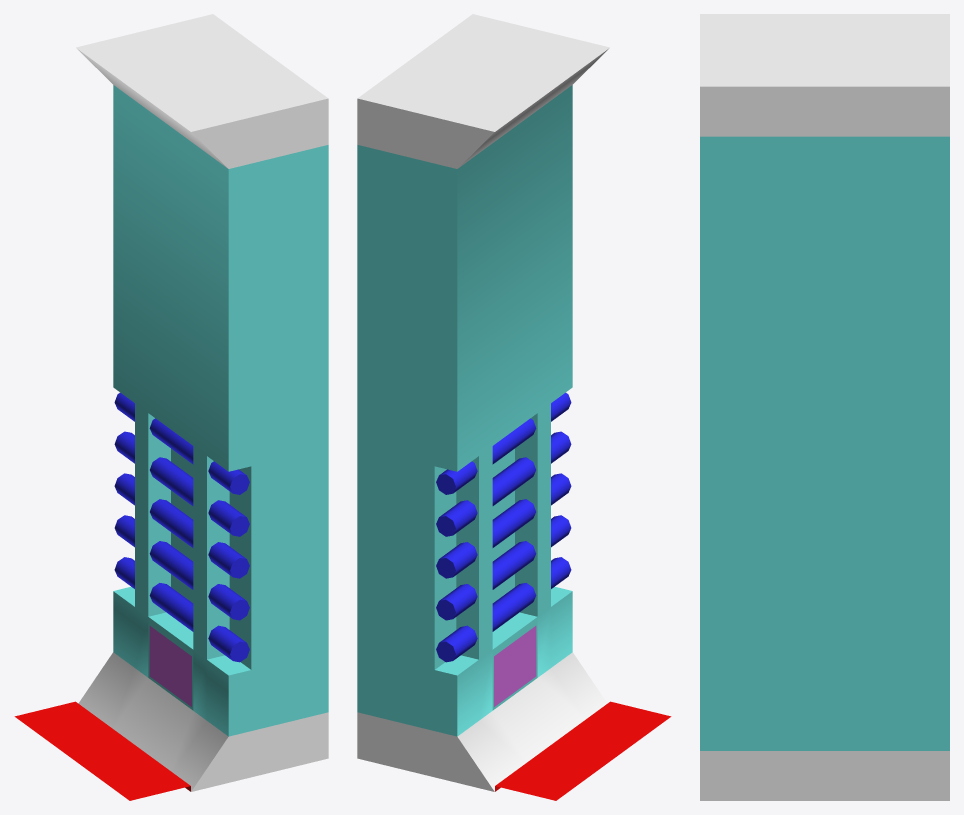
The model's file is Wall-BaseTall.fbx.
3 views of the same model, side by side, from view 1: azimuth 30°, elevation 25°; view 2: azimuth 150°, elevation 25°; view 3: azimuth 270°, elevation 25° (orthographic). The views are drawn at different scales.
Visible parts, largest first — view 1: BaseTall; view 2: BaseTall; view 3: BaseTall.
Boxes of the visible parts, left/top/right/bottom form: BaseTall: left=14, top=14, right=328, bottom=800; BaseTall: left=357, top=14, right=671, bottom=800; BaseTall: left=700, top=14, right=949, bottom=800.
Size of the model in its own units: 78.28 by 248 by 78.74.
